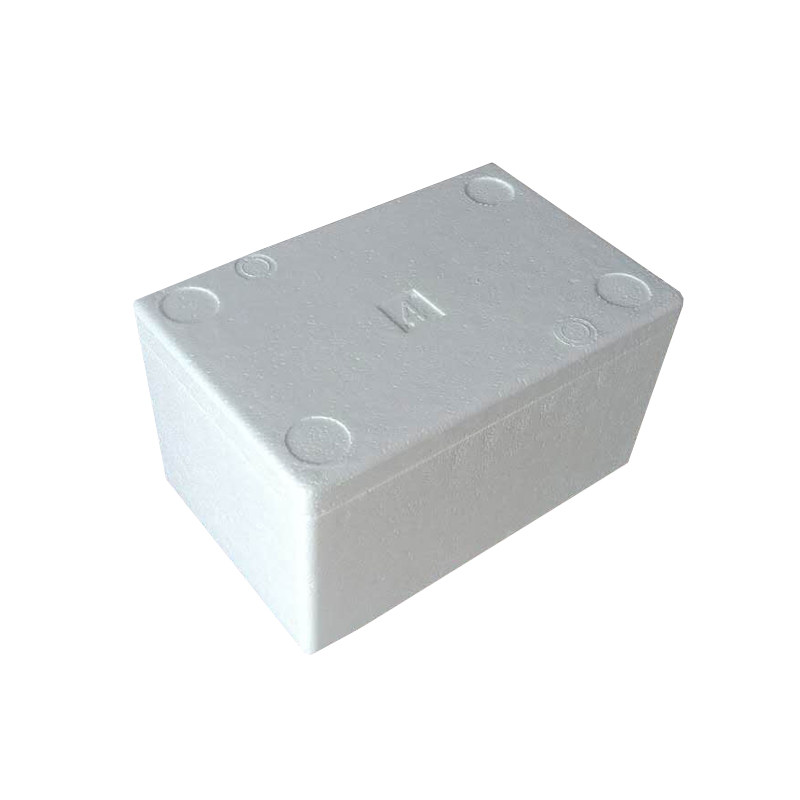泡沫箱: (136, 164, 682, 650)
